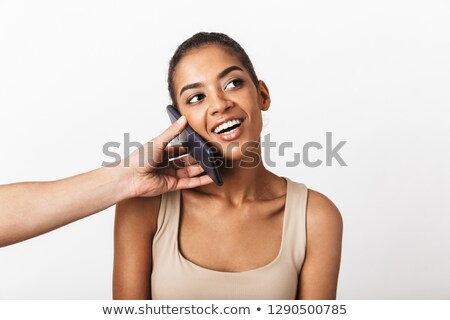phone: (158, 103, 221, 183)
talk: (142, 64, 261, 195)
